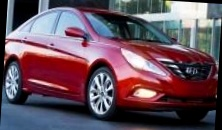car: (1, 0, 222, 129)
